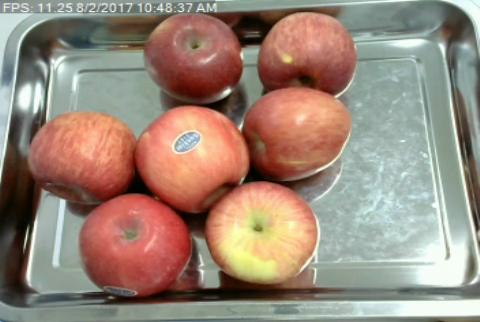apple: (136, 104, 246, 213), (206, 179, 319, 283), (79, 199, 191, 295), (27, 110, 136, 202), (242, 90, 352, 180), (142, 12, 244, 101), (257, 11, 357, 93)
